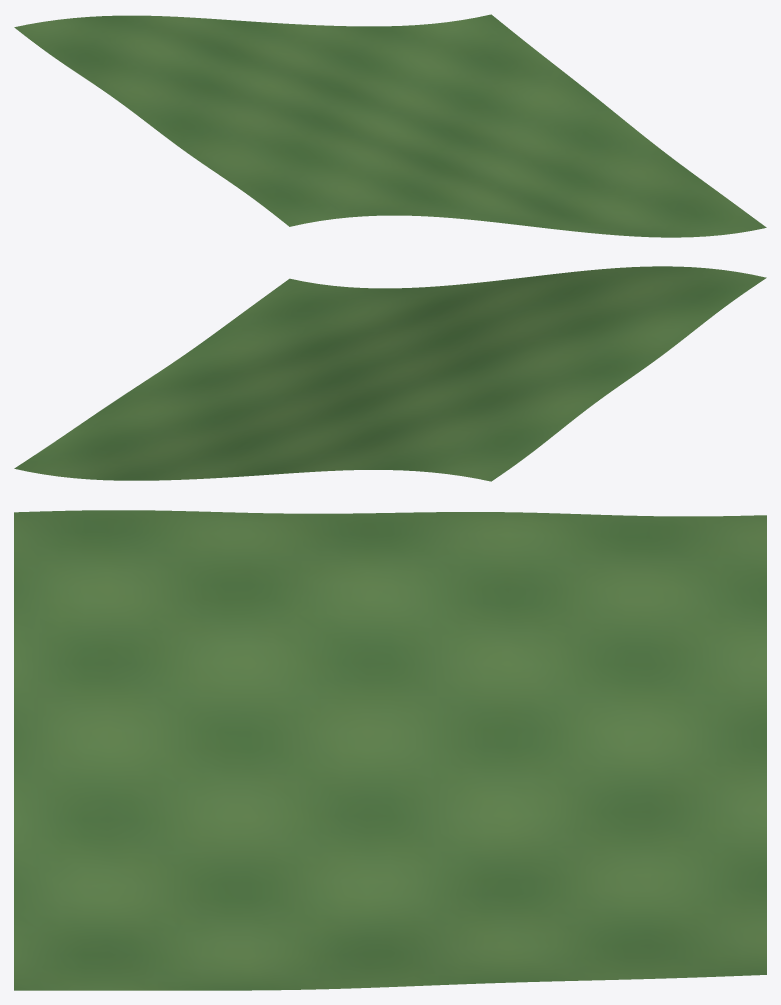
Rendered from chunk_0_8.glb.
3 views of the same model, one above another, from view 1: azimuth 30°, elevation 25°; view 2: azimuth 150°, elevation 25°; view 3: azimuth 270°, elevation 25° (orthographic). The views are drawn at different scales.
Size of the model in its own units: 512 by 122 by 512.
